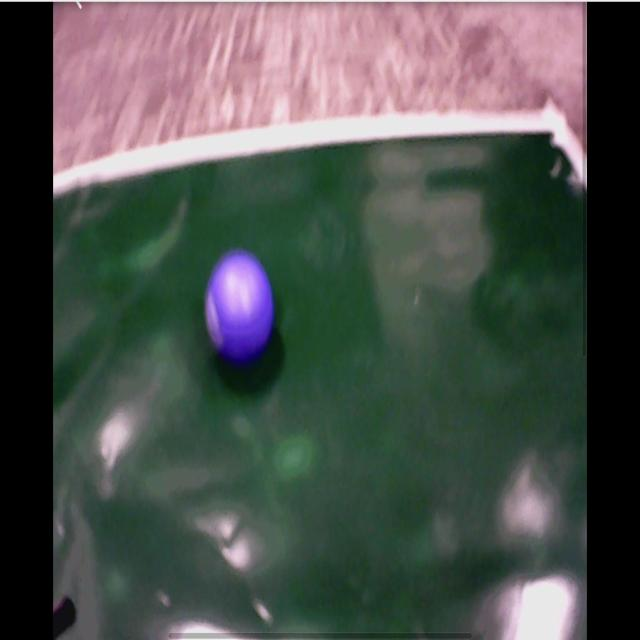ball: (203, 253, 274, 359)
